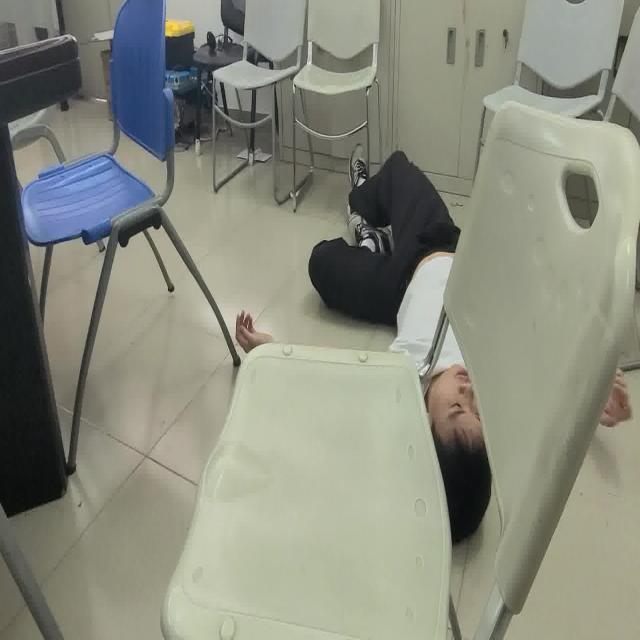Fall-Detected: (234, 135, 630, 542)
